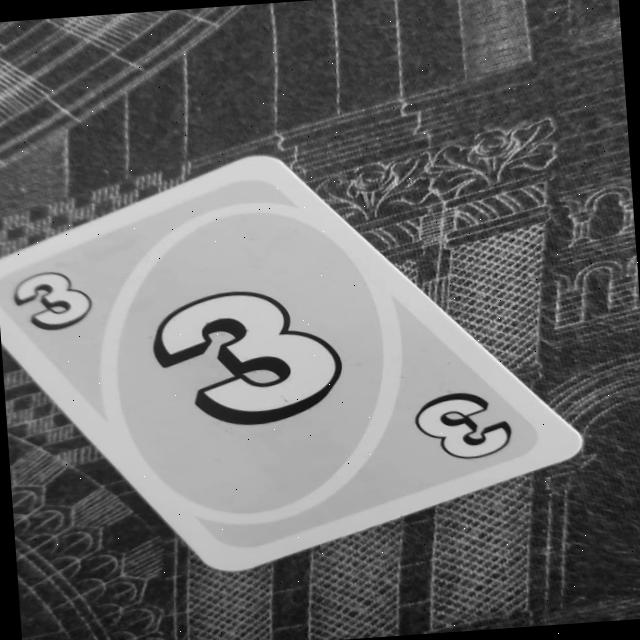card_3: (0, 131, 591, 585)
